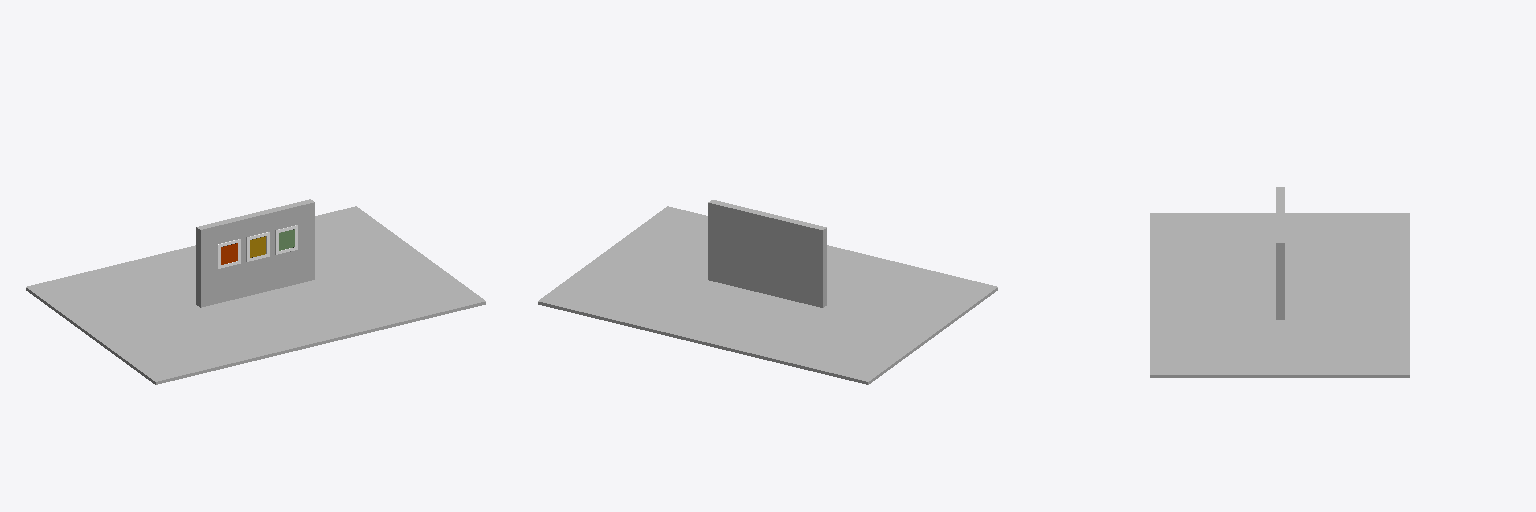
File: Abstract-Art-3X.obj
3 views of the same model, side by side, from view 1: azimuth 30°, elevation 25°; view 2: azimuth 150°, elevation 25°; view 3: azimuth 270°, elevation 25° (orthographic).
Visible parts, largest first — view 1: Mesh10 Group14 Group13 Model, Mesh11 Group15 Group13 Model; view 2: Mesh10 Group14 Group13 Model, Mesh11 Group15 Group13 Model; view 3: Mesh10 Group14 Group13 Model, Mesh11 Group15 Group13 Model.
Part boxes in pixels (left/top/right/bottom): Mesh10 Group14 Group13 Model: left=26, top=206, right=485, bottom=384; Mesh11 Group15 Group13 Model: left=196, top=199, right=314, bottom=307; Mesh10 Group14 Group13 Model: left=538, top=206, right=997, bottom=384; Mesh11 Group15 Group13 Model: left=708, top=200, right=826, bottom=307; Mesh10 Group14 Group13 Model: left=1150, top=213, right=1409, bottom=377; Mesh11 Group15 Group13 Model: left=1276, top=187, right=1284, bottom=319.
Size of the model in its own units: 10.97 by 2.61 by 7.47.